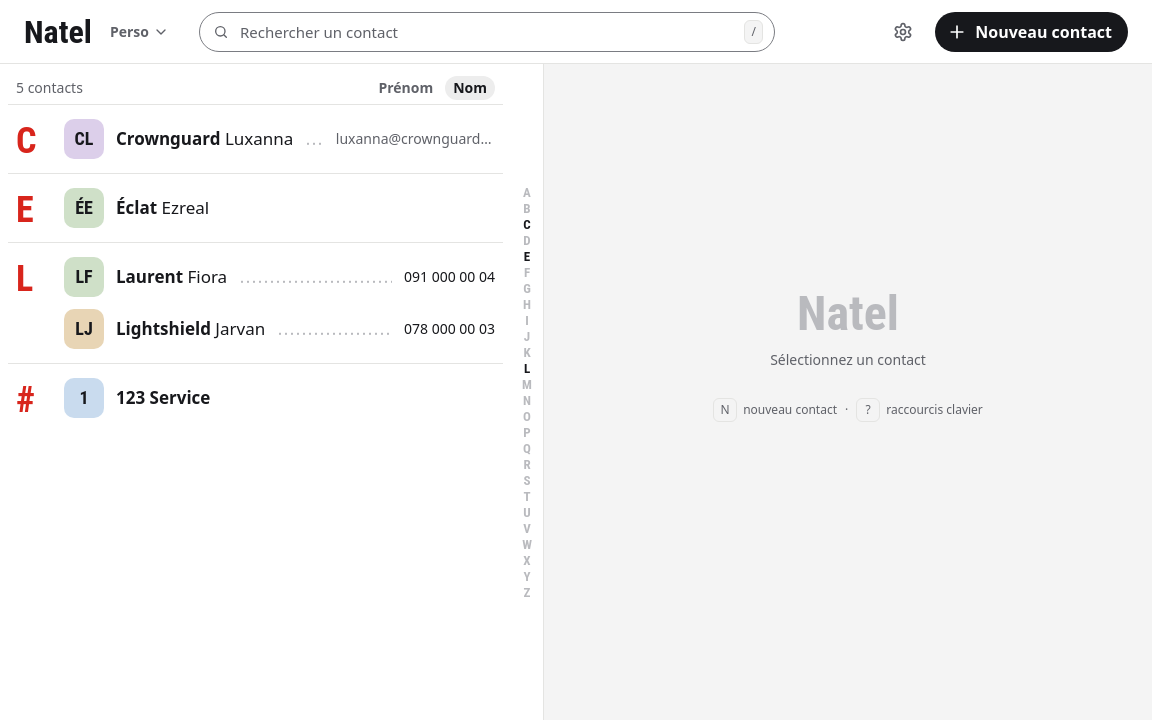
list grouping and rail › switches the grouping key with the sort toggle
Check: the headings read "C", "E", "L", "#", in this order, box [16, 120, 36, 162]; [16, 189, 34, 231]; [16, 258, 33, 300]; [16, 379, 35, 421]
Click the button "Prénom" at (406, 88), box [370, 76, 441, 100]
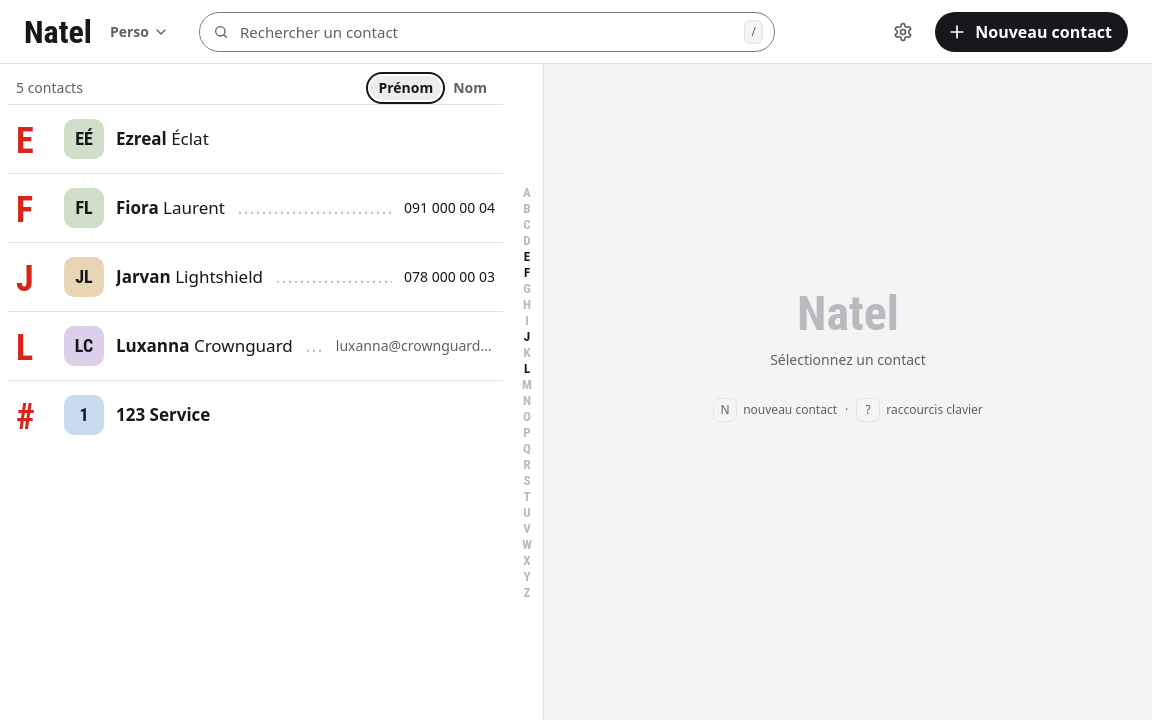
Check: the headings read "E", "F", "J", "L", "#", in this order, box [16, 120, 34, 162]; [16, 189, 33, 231]; [16, 258, 34, 300]; [16, 327, 33, 369]; [16, 396, 35, 438]
